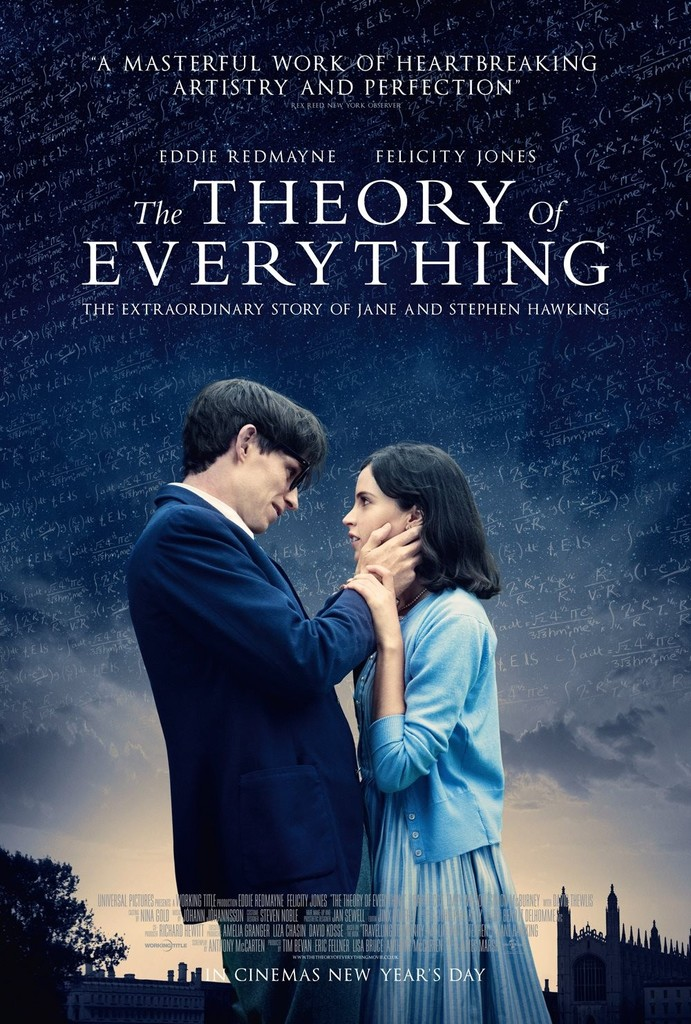Book: (0, 0, 690, 1023)
